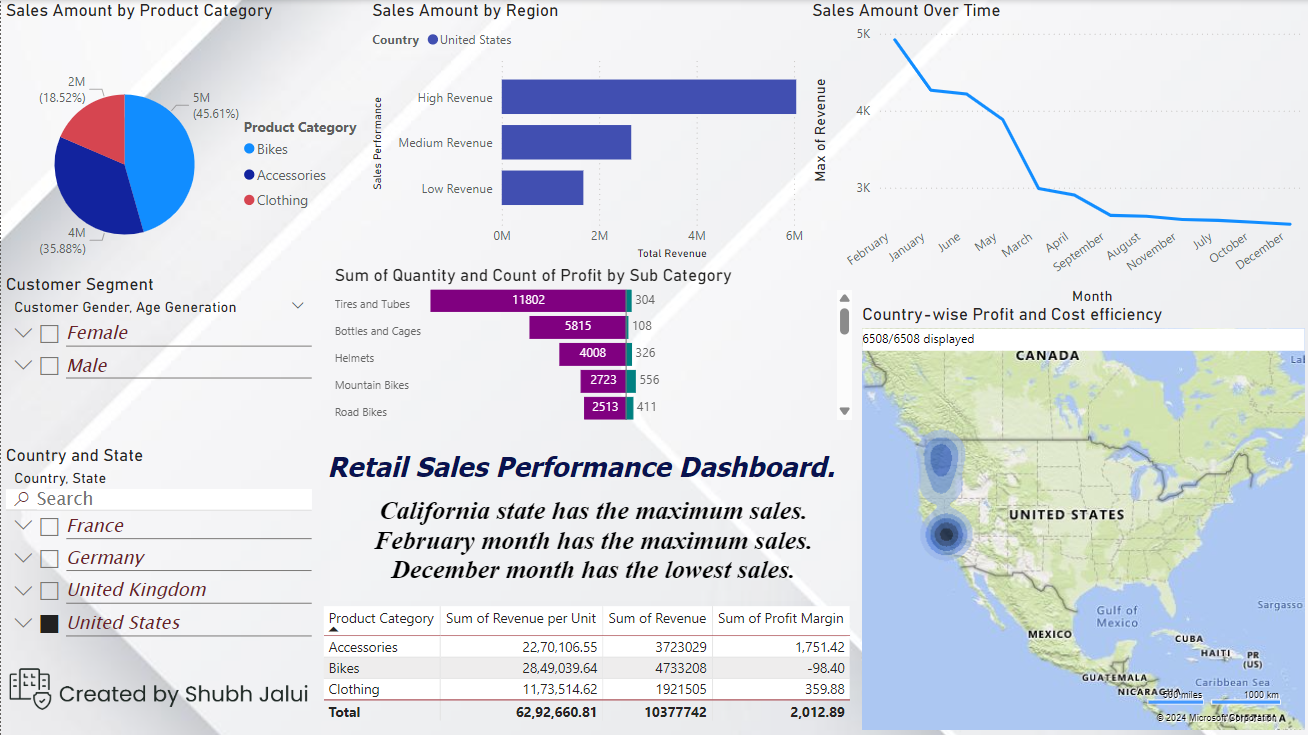

This screenshot's page, from the dashboard's own definition file:
{"tool":"powerbi","page":{"name":"Page 1","canvas":[1280,720],"ordinal":0},"visuals":[{"type":"lineChart","title":"Sales Amount Over Time","fields":{"Category":["SalesForCourse.Month"],"Y":["Max(SalesForCourse.Revenue)"]},"box":[788.7,0,491.6,303.3],"z":0},{"type":"clusteredBarChart","title":"Sales Amount by Region","fields":{"Category":["SalesForCourse.Sales Performance"],"Series":["SalesForCourse.Country"],"Y":["SalesForCourse.Total Revenue"]},"box":[358.3,0,479.4,259.2],"z":1000},{"type":"pieChart","title":"Sales Amount by Product Category","fields":{"Y":["Sum(SalesForCourse.Revenue)"],"Category":["SalesForCourse.Product Category"]},"box":[0,0,358.1,303.3],"z":2000},{"type":"tableEx","fields":{"Values":["SalesForCourse.Product Category","Sum(SalesForCourse.Revenue per Unit)","Sum(SalesForCourse.Revenue)","Sum(SalesForCourse.Profit Margin)"]},"box":[309.4,588.2,528.3,130.8],"z":3000},{"type":"slicer","title":"Country and State","fields":{"Values":["SalesForCourse.Country","SalesForCourse.State"]},"box":[0,435.3,309.4,284.9],"z":4000},{"type":"slicer","title":"Customer Segment","fields":{"Values":["SalesForCourse.Customer Gender","SalesForCourse.Age Generation"]},"box":[0,267.8,309.4,155.3],"z":5000},{"type":"heatmapF244EA9EE1F34E828A80CF19B41976F8","title":"Country-wise Profit and Cost efficiency","fields":{"location":["SalesForCourse.State"],"group":["SalesForCourse.Profit Margin"],"value":["Sum(SalesForCourse.Revenue)"]},"box":[837.6,297.1,442.7,421.9],"z":6000},{"type":"textbox","box":[309.4,435.3,516,46.5],"z":7000},{"type":"image","box":[3.7,627.3,300.8,92.9],"z":9000},{"type":"shape","box":[321.6,469.6,516,118.6],"z":9001},{"type":"TornadoChart1452517688218","fields":{"Category":["SalesForCourse.Sub Category"],"Values":["Sum(SalesForCourse.Quantity)","Count(SalesForCourse.Profit)"]},"box":[321.6,259.2,516,176.1],"z":9002}]}

Visuals, with their boxes in screenshot pixels (x1, y1, x2, y2), scaled from the page's 1280x720 canvas onto the 1308x735 screenshot:
"Sales Amount Over Time" lineChart: x1=806, y1=0, x2=1307, y2=310
"Sales Amount by Region" clusteredBarChart: x1=366, y1=0, x2=856, y2=265
"Sales Amount by Product Category" pieChart: x1=0, y1=0, x2=366, y2=310
tableEx - SalesForCourse.Product Category x Sum(SalesForCourse.Revenue per Unit): x1=316, y1=600, x2=856, y2=734
"Country and State" slicer: x1=0, y1=444, x2=316, y2=734
"Customer Segment" slicer: x1=0, y1=273, x2=316, y2=432
"Country-wise Profit and Cost efficiency" heatmapF244EA9EE1F34E828A80CF19B41976F8: x1=856, y1=303, x2=1307, y2=734
textbox: x1=316, y1=444, x2=843, y2=492
image: x1=4, y1=640, x2=311, y2=734
shape: x1=329, y1=479, x2=856, y2=600
TornadoChart1452517688218 - SalesForCourse.Sub Category x Sum(SalesForCourse.Quantity): x1=329, y1=265, x2=856, y2=444
